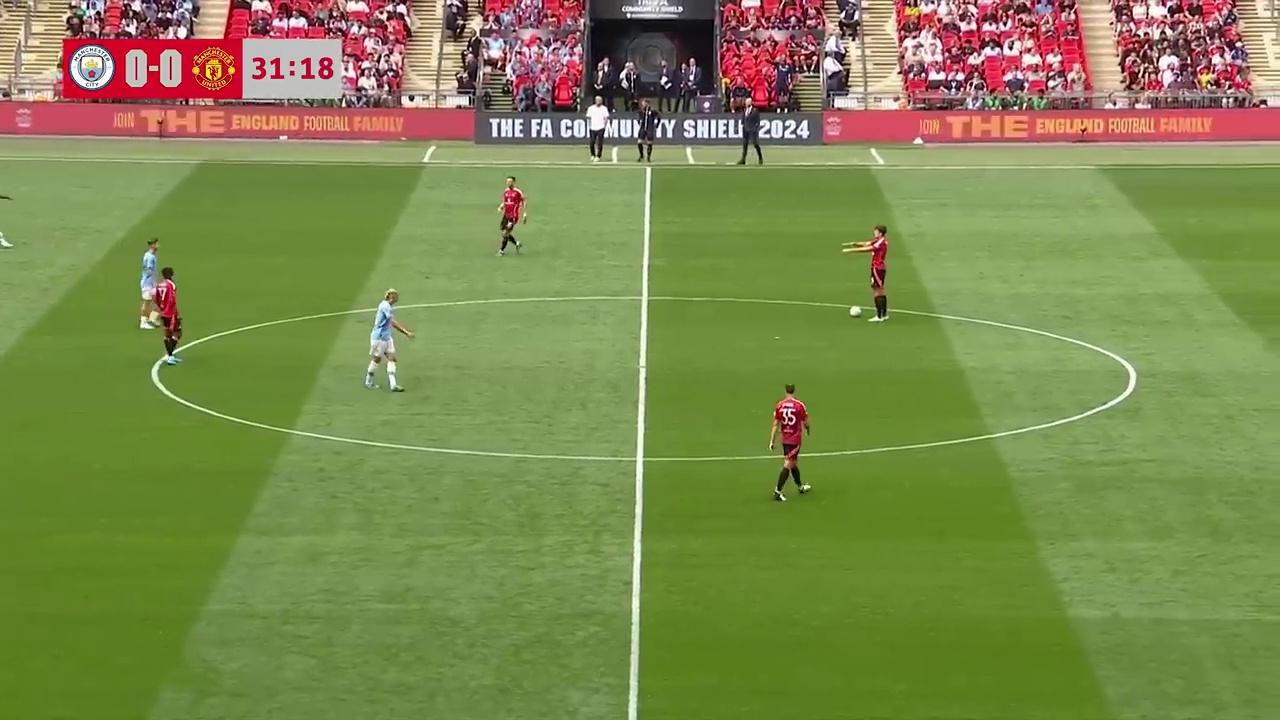ball: (848, 303, 862, 318)
player: (768, 383, 812, 501), (363, 291, 409, 392), (156, 266, 183, 365), (864, 224, 889, 321), (496, 177, 525, 256), (138, 239, 161, 329), (0, 186, 12, 253)
